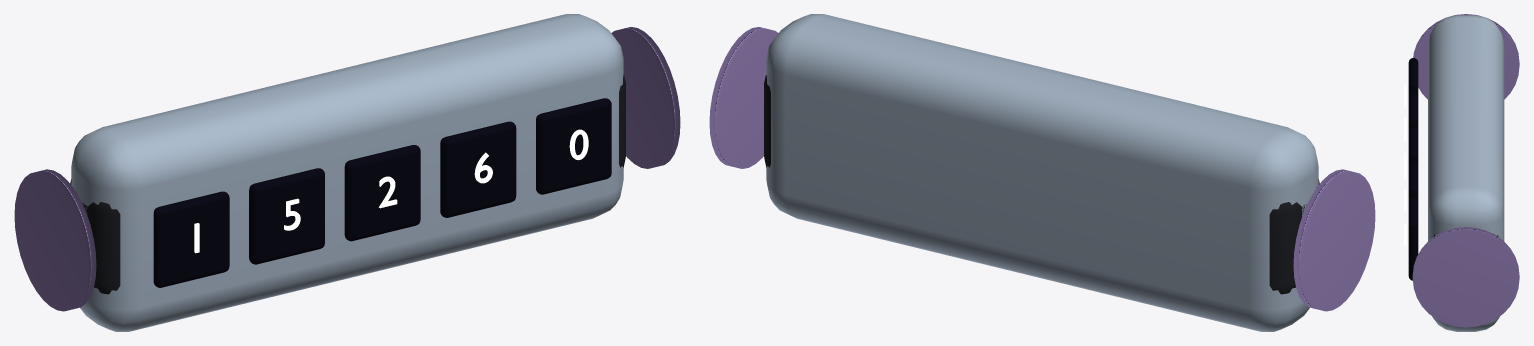
File: p2s_video_so_ong_divoom_times_gate.glb
3 views of the same model, side by side, from view 1: azimuth 30°, elevation 25°; view 2: azimuth 150°, elevation 25°; view 3: azimuth 270°, elevation 25° (orthographic). The views are drawn at different scales.
Parts seen in each view (by area): view 1: repair_times_gate_smoked_capsule, repair_times_gate_left_cap, repair_times_gate_right_cap, repair_ips_0, repair_ips_2, repair_ips_3, repair_ips_1, repair_ips_4, repair_times_gate_black_body; view 2: repair_times_gate_smoked_capsule, repair_times_gate_left_cap, repair_times_gate_right_cap, repair_times_gate_black_body; view 3: repair_times_gate_smoked_capsule, repair_times_gate_right_cap, repair_times_gate_left_cap, repair_ips_4, repair_ips_2, repair_ips_3, repair_ips_1, repair_ips_0.
Part boxes in pixels (<box>): repair_times_gate_smoked_capsule: <box>71,14,623,331</box>; repair_times_gate_left_cap: <box>14,169,96,311</box>; repair_times_gate_right_cap: <box>611,27,680,168</box>; repair_ips_0: <box>153,191,229,287</box>; repair_ips_2: <box>344,145,420,241</box>; repair_ips_3: <box>440,121,516,217</box>; repair_ips_1: <box>249,168,324,264</box>; repair_ips_4: <box>536,98,611,194</box>; repair_times_gate_black_body: <box>70,75,625,294</box>; repair_times_gate_smoked_capsule: <box>766,14,1318,331</box>; repair_times_gate_left_cap: <box>1293,169,1375,311</box>; repair_times_gate_right_cap: <box>709,27,778,168</box>; repair_times_gate_black_body: <box>764,75,1319,294</box>; repair_times_gate_smoked_capsule: <box>1428,15,1504,331</box>; repair_times_gate_right_cap: <box>1412,227,1519,327</box>; repair_times_gate_left_cap: <box>1413,14,1519,99</box>; repair_ips_4: <box>1408,197,1418,280</box>; repair_ips_2: <box>1408,127,1418,166</box>; repair_ips_3: <box>1408,162,1418,200</box>; repair_ips_1: <box>1408,92,1418,131</box>; repair_ips_0: <box>1408,58,1418,96</box>.
Bounding box in the file's own units: 0.3169 × 0.097 × 0.0711.
